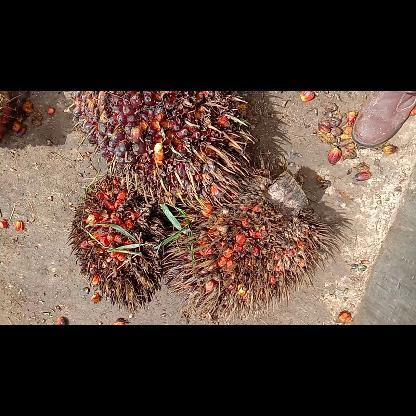TBS masak: (66, 92, 256, 210)
Terlalu masak: (161, 168, 339, 322), (65, 172, 169, 316)
